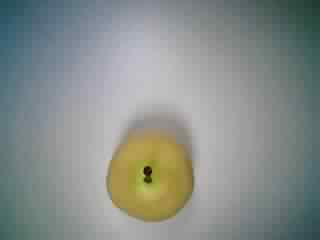pear: (94, 122, 203, 224)
